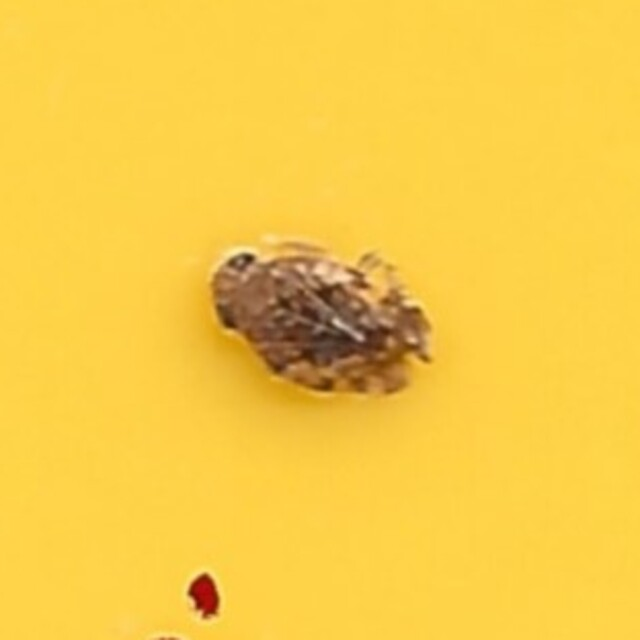Hemiptera: (205, 234, 435, 406)
